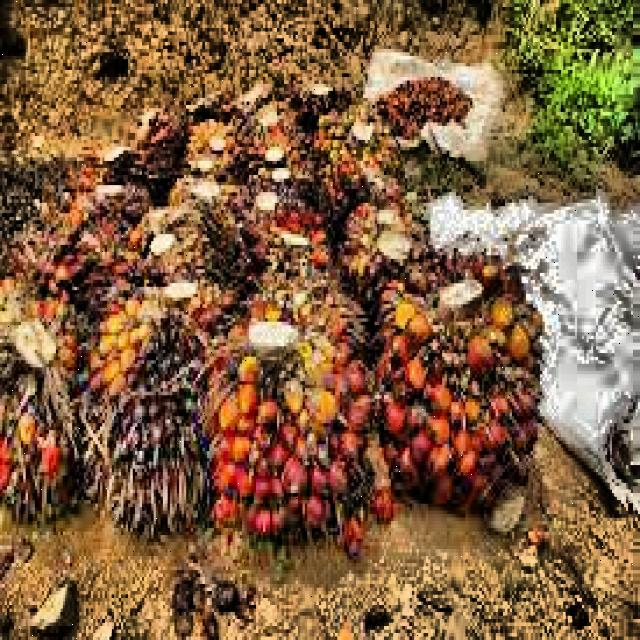FFB: (377, 255, 544, 516), (211, 290, 380, 545), (93, 283, 226, 528), (0, 299, 104, 527)
